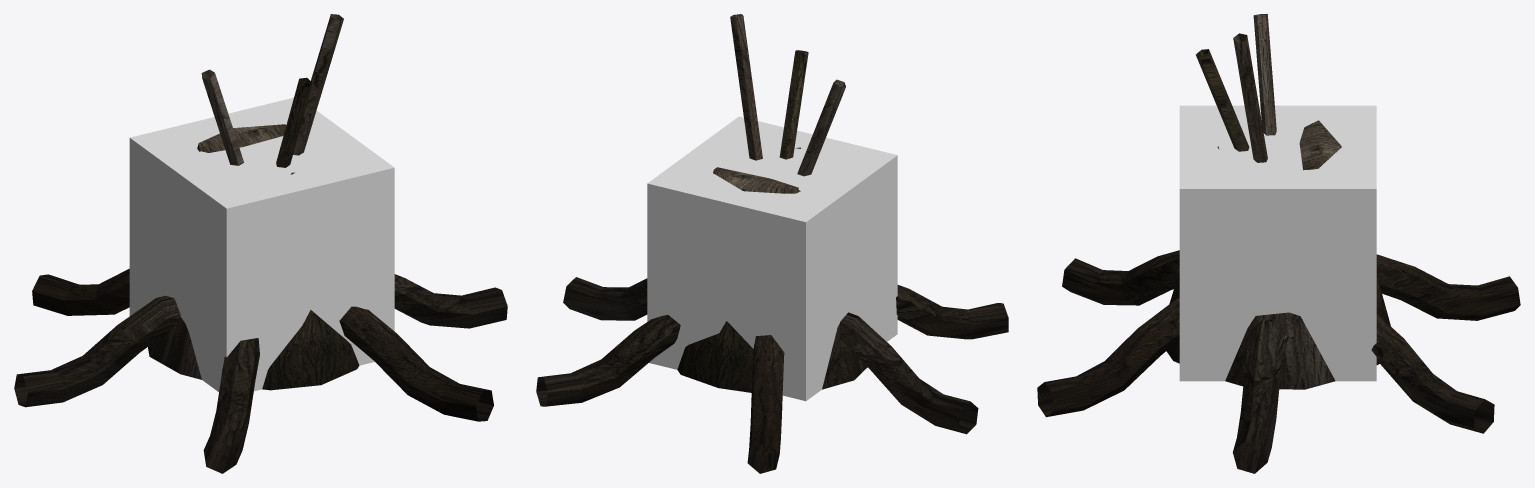
File: dead_stump_blighted.glb
3 views of the same model, side by side, from view 1: azimuth 30°, elevation 25°; view 2: azimuth 150°, elevation 25°; view 3: azimuth 270°, elevation 25° (orthographic). The views are drawn at different scales.
Visible parts, largest first — view 1: col_block_stump, dead_stump_blighted; view 2: col_block_stump, dead_stump_blighted; view 3: col_block_stump, dead_stump_blighted.
Part boxes in pixels (box(x1,y1,x2,y2)): col_block_stump: box(129, 97, 394, 391); dead_stump_blighted: box(14, 14, 507, 473); col_block_stump: box(647, 116, 897, 401); dead_stump_blighted: box(536, 14, 1008, 473); col_block_stump: box(1179, 105, 1376, 381); dead_stump_blighted: box(1037, 14, 1520, 473).
Size of the model in its own units: 3.5 by 2.59 by 3.19.
1 material, 1 textured.
